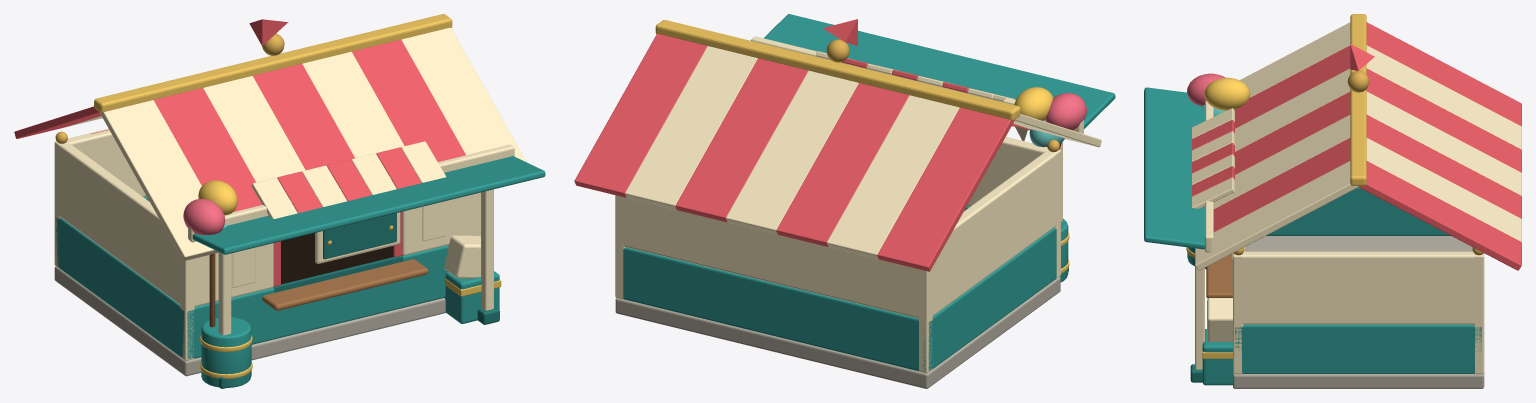
The model's file is farm-shop.glb.
3 renders of one model, left to right at view 1: azimuth 30°, elevation 25°; view 2: azimuth 150°, elevation 25°; view 3: azimuth 270°, elevation 25°, orthographic. The views are drawn at different scales.
Visible parts, largest first — view 1: SHOP upper wall side -1, SHOP porch canopy, SHOP wainscot front, SHOP roof front panel 0, SHOP roof front panel 6, SHOP wainscot side -1, SHOP roof front panel 5, SHOP roof ridge, SHOP roof front panel 1, SHOP foundation, SHOP roof front panel 2, SHOP roof front panel 4 (+30 smaller); view 2: SHOP wainscot back, SHOP upper wall back, SHOP upper wall side -1, SHOP roof back panel 0, SHOP roof back panel 6, SHOP roof back panel 3, SHOP roof back panel 1, SHOP roof back panel 2, SHOP roof back panel 5, SHOP roof back panel 4, SHOP porch canopy, SHOP foundation (+11 smaller); view 3: SHOP upper wall side 1, SHOP wainscot side 1, SHOP porch canopy, SHOP foundation, SHOP roof back panel 6, SHOP roof front panel 6, SHOP wainscot side -1, SHOP roof back panel 0, SHOP roof back panel 5, SHOP roof back panel 3, SHOP roof back panel 4, SHOP roof back panel 2 (+26 smaller).
Boxes of the visible parts, bbox=[...] form: SHOP upper wall side -1: bbox=[55, 142, 184, 306]; SHOP porch canopy: bbox=[192, 156, 545, 254]; SHOP wainscot front: bbox=[187, 245, 448, 359]; SHOP roof front panel 0: bbox=[99, 100, 219, 260]; SHOP roof front panel 6: bbox=[401, 27, 526, 161]; SHOP wainscot side -1: bbox=[55, 217, 184, 357]; SHOP roof front panel 5: bbox=[352, 39, 465, 161]; SHOP roof ridge: bbox=[94, 14, 452, 113]; SHOP roof front panel 1: bbox=[154, 88, 262, 211]; SHOP foundation: bbox=[54, 266, 445, 376]; SHOP roof front panel 2: bbox=[203, 76, 305, 182]; SHOP roof front panel 4: bbox=[302, 51, 404, 157]; SHOP wainscot back: bbox=[618, 247, 932, 371]; SHOP upper wall back: bbox=[616, 195, 932, 318]; SHOP upper wall side -1: bbox=[918, 151, 1056, 317]; SHOP roof back panel 0: bbox=[877, 107, 1014, 271]; SHOP roof back panel 6: bbox=[574, 33, 707, 197]; SHOP roof back panel 3: bbox=[726, 70, 858, 234]; SHOP roof back panel 1: bbox=[827, 95, 959, 259]; SHOP roof back panel 2: bbox=[776, 83, 909, 246]; SHOP roof back panel 5: bbox=[625, 46, 757, 209]; SHOP roof back panel 4: bbox=[675, 58, 808, 222]; SHOP porch canopy: bbox=[764, 14, 1115, 128]; SHOP foundation: bbox=[615, 277, 1060, 388]; SHOP upper wall side 1: bbox=[1235, 251, 1481, 324]; SHOP wainscot side 1: bbox=[1235, 324, 1481, 373]; SHOP porch canopy: bbox=[1144, 87, 1205, 249]; SHOP foundation: bbox=[1233, 236, 1484, 388]; SHOP roof back panel 6: bbox=[1358, 161, 1521, 270]; SHOP roof front panel 6: bbox=[1195, 161, 1358, 270]; SHOP wainscot side -1: bbox=[1266, 187, 1450, 235]; SHOP roof back panel 0: bbox=[1366, 22, 1521, 126]; SHOP roof back panel 5: bbox=[1366, 138, 1521, 241]; SHOP roof back panel 3: bbox=[1366, 91, 1521, 195]; SHOP roof back panel 4: bbox=[1366, 115, 1521, 218]; SHOP roof back panel 2: bbox=[1366, 68, 1521, 172].
Bounding box in the file's own units: 7.1 × 5.39 × 6.91.
